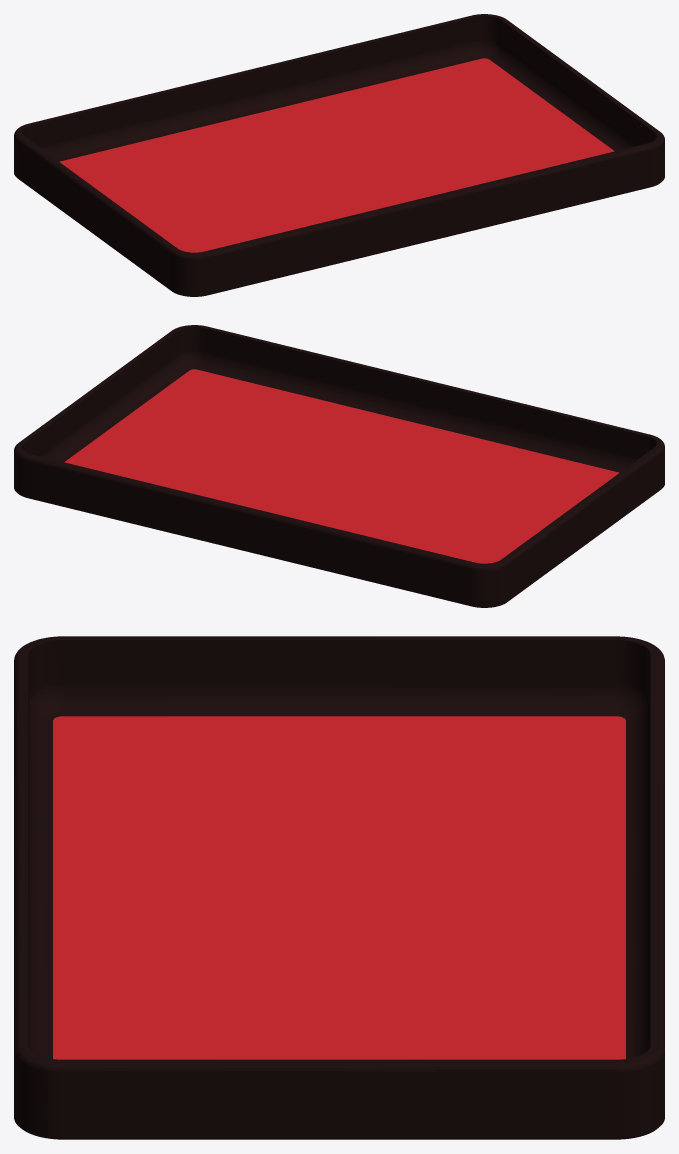
The picture shows the model from 3 angles, top to bottom: view 1: azimuth 30°, elevation 25°; view 2: azimuth 150°, elevation 25°; view 3: azimuth 270°, elevation 25°; orthographic projection. The views are drawn at different scales.
Visible parts, largest first — view 1: tray_body, art_red; view 2: tray_body, art_red; view 3: art_red, tray_body.
Part boxes in pixels (bbox=[...]): tray_body: bbox=[14, 14, 664, 296]; art_red: bbox=[59, 58, 614, 252]; tray_body: bbox=[14, 325, 664, 607]; art_red: bbox=[64, 369, 619, 563]; art_red: bbox=[53, 716, 625, 1059]; tray_body: bbox=[14, 636, 664, 1139].
Bounding box in the file's own units: 248 × 20.04 × 158.
